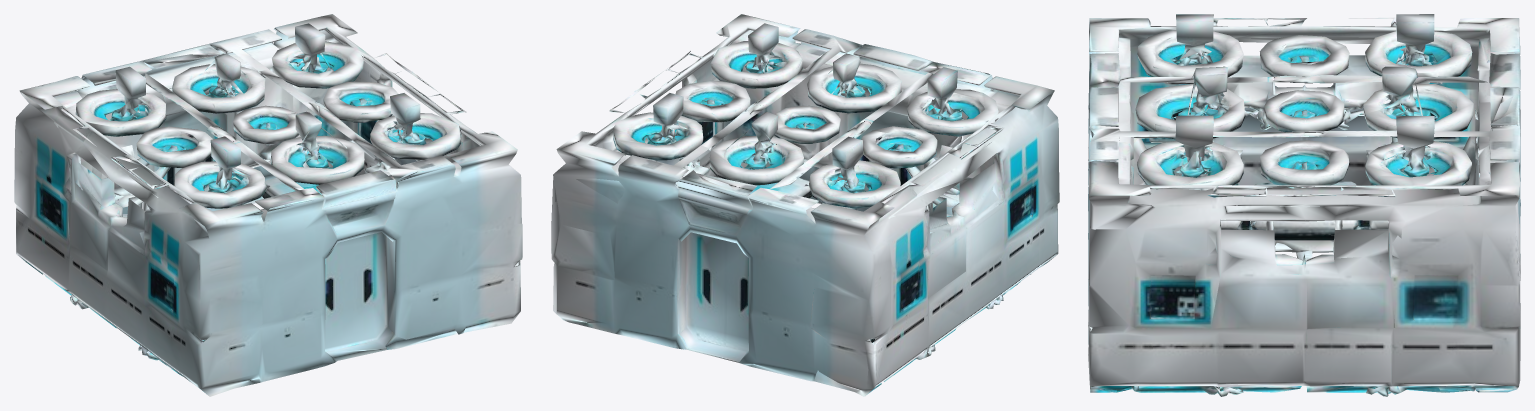
File: capital_sick_bay.repacked.glb
3 renders of one model, left to right at view 1: azimuth 30°, elevation 25°; view 2: azimuth 150°, elevation 25°; view 3: azimuth 270°, elevation 25°, orthographic. The views are drawn at different scales.
Visible parts, largest first — view 1: Mesh1.0; view 2: Mesh1.0; view 3: Mesh1.0.
Boxes of the visible parts, box(x1,y1,x2,y2) form: Mesh1.0: box(14, 14, 522, 396); Mesh1.0: box(551, 14, 1059, 396); Mesh1.0: box(1088, 14, 1520, 396).
Bounding box in the file's own units: 1.91 × 1.23 × 1.91.
Materials: 1 (1 with a texture image).
